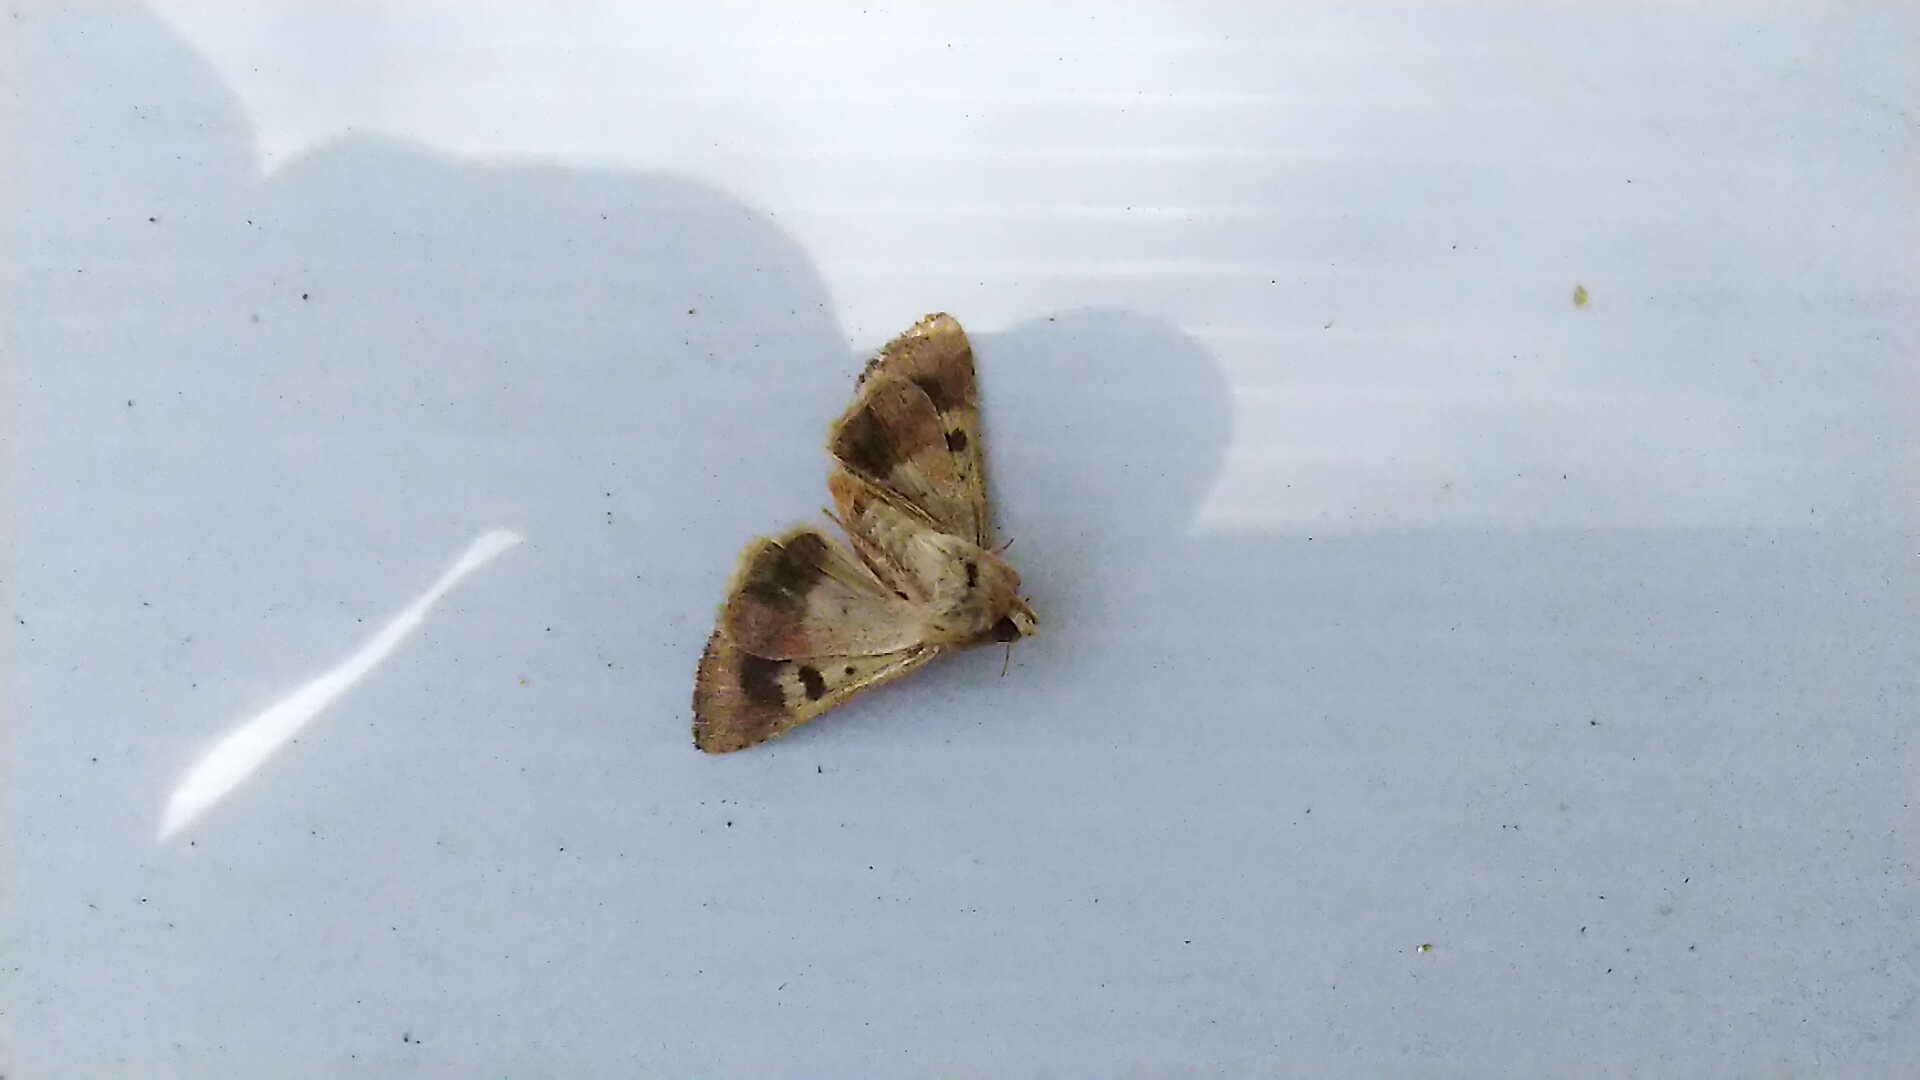INS-C: (666, 301, 1054, 760)
